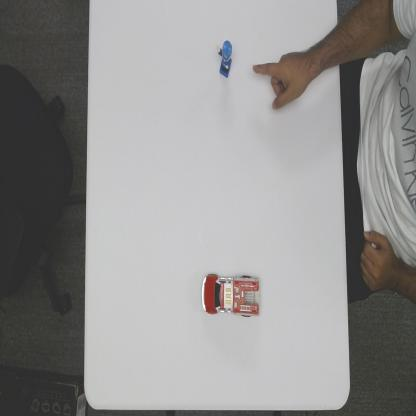Arm: (310, 23, 339, 79)
Firetruck: (202, 272, 260, 320)
Hand: (252, 47, 310, 113)
